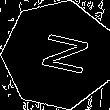N_W: (28, 30, 88, 80)
